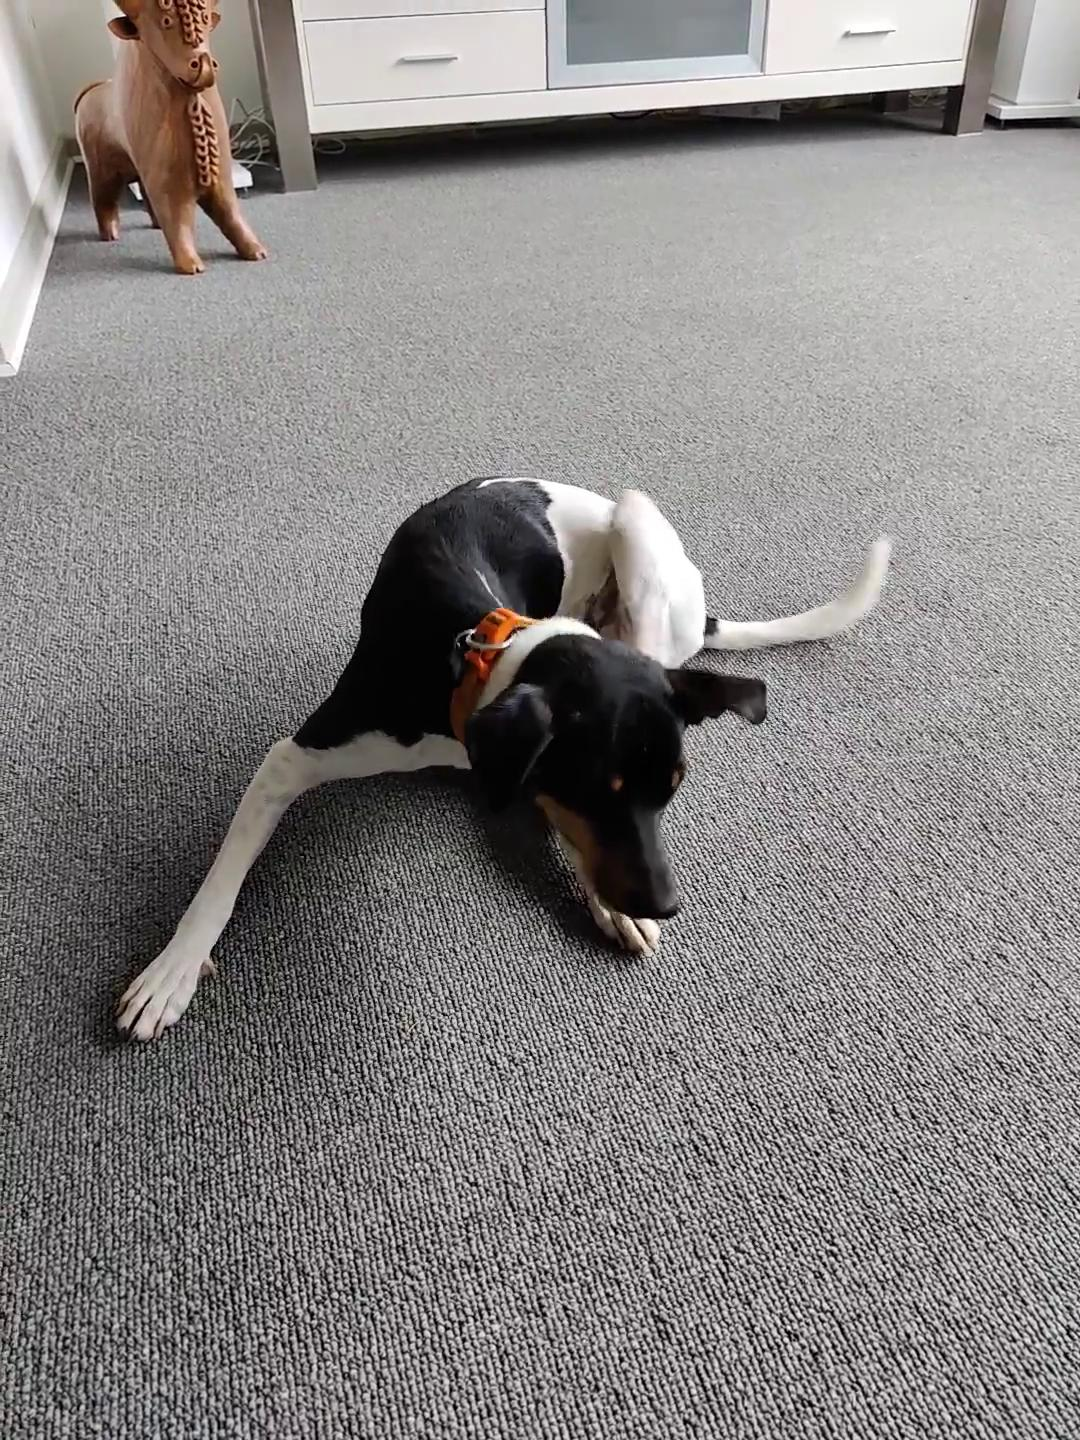Dog: (82, 472, 904, 1053)
